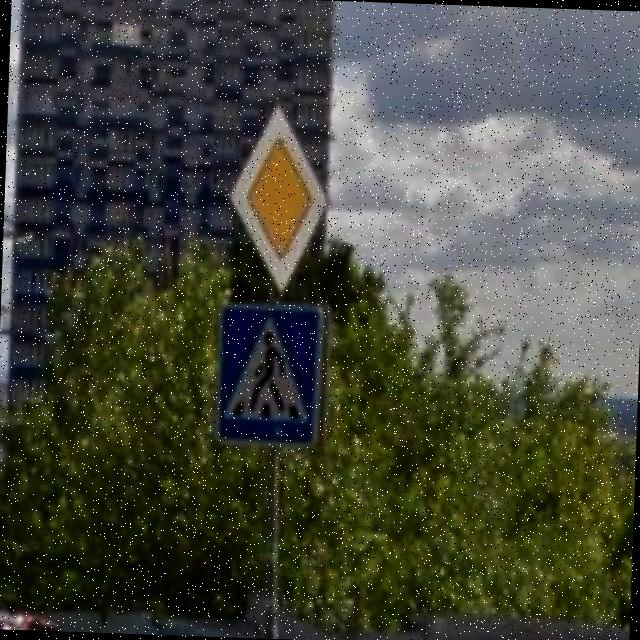Droga z pierwszenstwem: (220, 99, 336, 300)
Przejscie dla pieszych: (208, 298, 336, 452)
